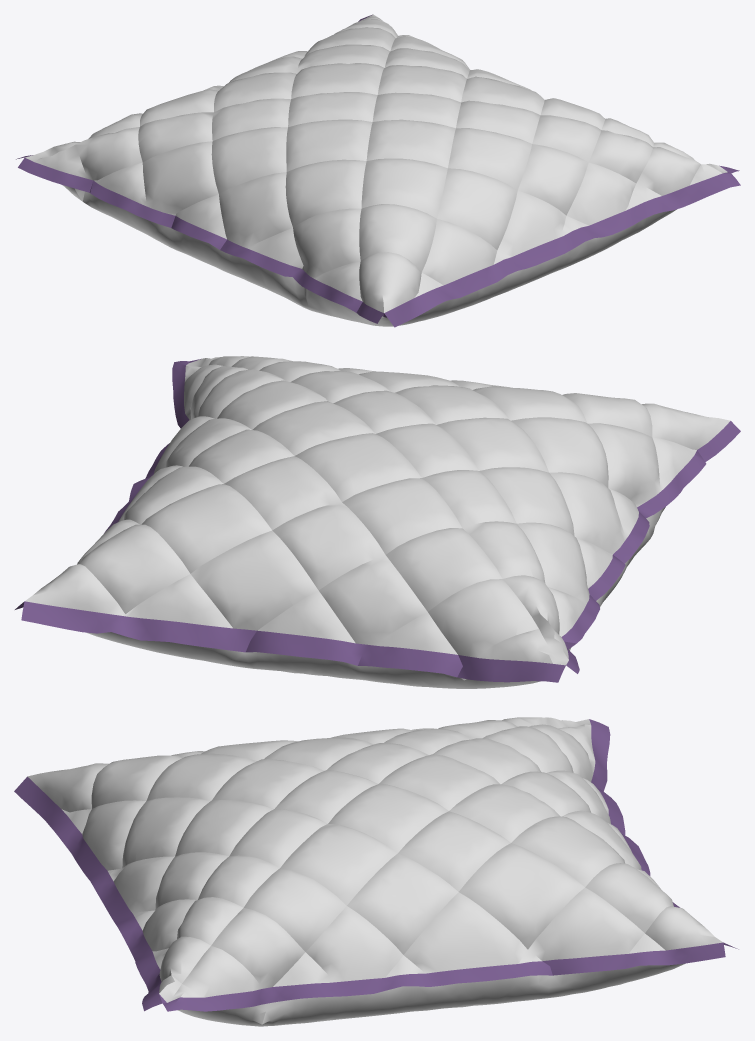
The model's file is almofada matelasse2.fbx.
The picture shows the model from 3 angles, top to bottom: view 1: azimuth 30°, elevation 25°; view 2: azimuth 150°, elevation 25°; view 3: azimuth 270°, elevation 25°; orthographic projection. The views are drawn at different scales.
Visible parts, largest first — view 1: default_group_001; view 2: default_group_001; view 3: default_group_001.
Boxes of the visible parts, <box> form: default_group_001: <box>16,14,740,327</box>; default_group_001: <box>15,356,740,688</box>; default_group_001: <box>14,717,738,1026</box>.
Size of the model in its own units: 17.94 by 4.17 by 18.83.
